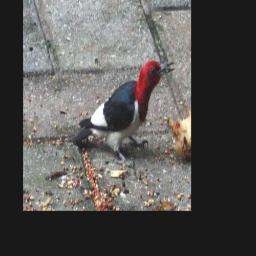Woodpecker: (66, 54, 179, 174)
